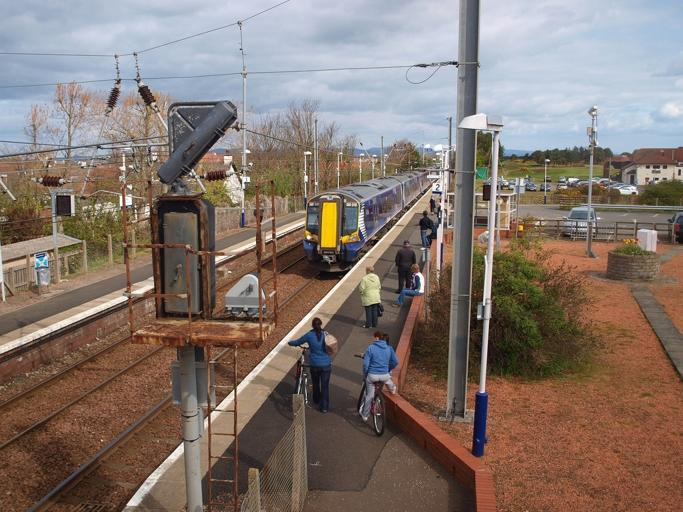non-vehicle: (353, 353, 386, 435), (294, 344, 310, 407)
